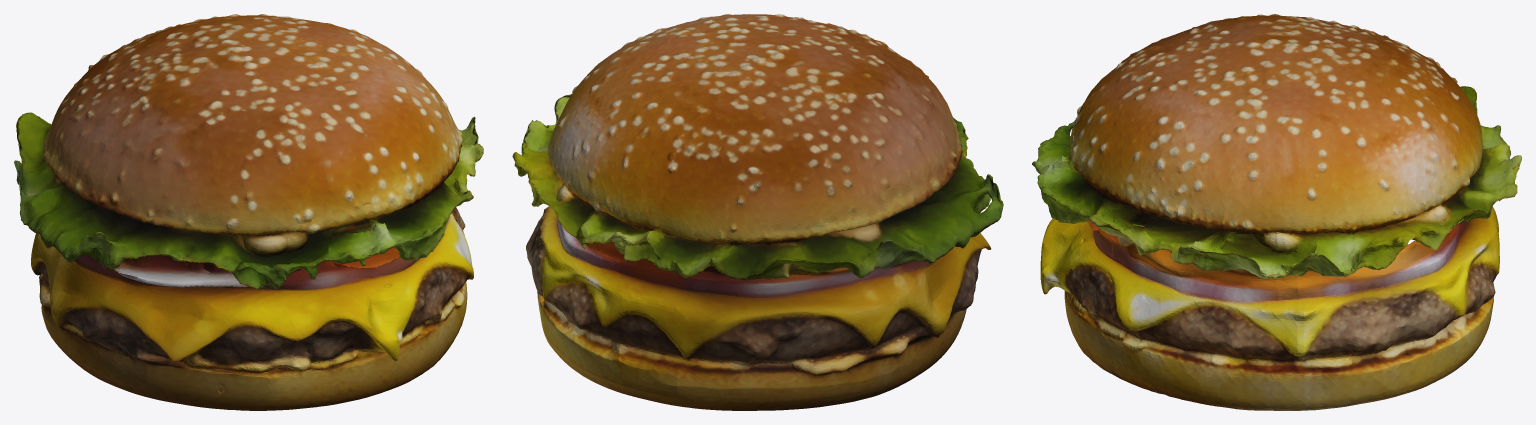
Rendered from ashes-burger-multiview-hq.glb.
The picture shows the model from 3 angles, left to right: view 1: azimuth 30°, elevation 25°; view 2: azimuth 150°, elevation 25°; view 3: azimuth 270°, elevation 25°; orthographic projection.
Parts seen in each view (by area): view 1: geometry_0; view 2: geometry_0; view 3: geometry_0.
Boxes of the visible parts, left/top/right/bottom form: geometry_0: left=14, top=14, right=483, bottom=410; geometry_0: left=512, top=14, right=1003, bottom=410; geometry_0: left=1032, top=14, right=1521, bottom=410.
Bounding box in the file's own units: 0.7676 × 0.4905 × 0.7651.
1 material, 1 textured.
